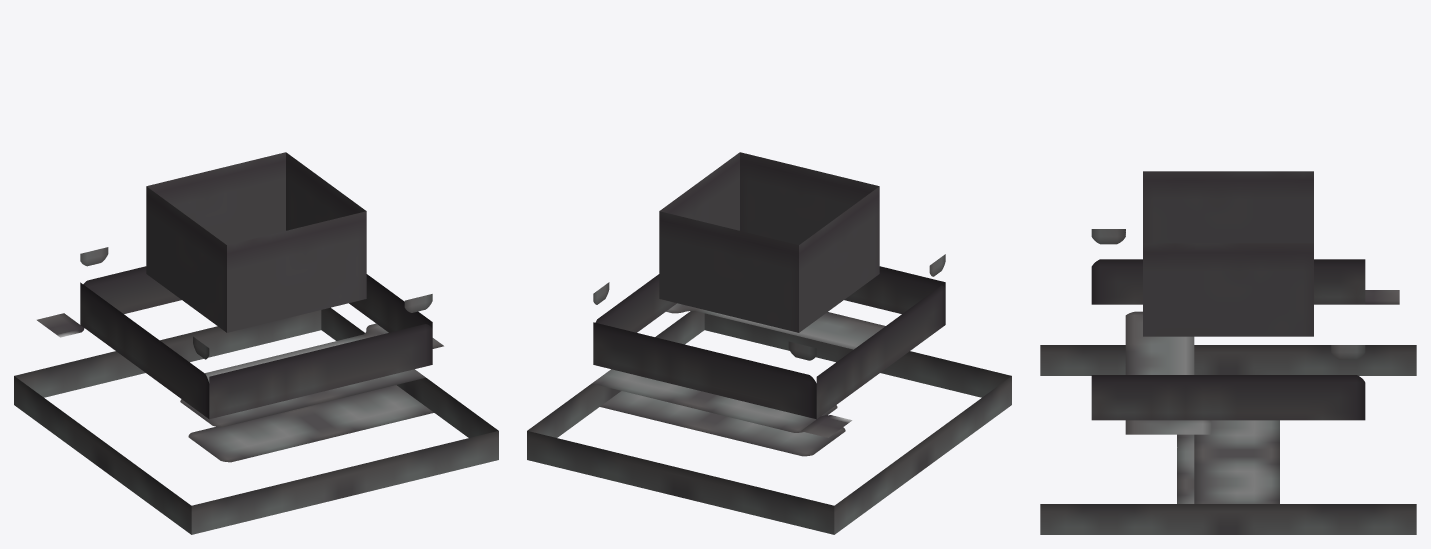
File: rocket_top_basic.obj
The picture shows the model from 3 angles, left to right: view 1: azimuth 30°, elevation 25°; view 2: azimuth 150°, elevation 25°; view 3: azimuth 270°, elevation 25°; orthographic projection. The views are drawn at different scales.
Visible parts, largest first — view 1: RocketTop.001_Cube.000; view 2: RocketTop.001_Cube.000; view 3: RocketTop.001_Cube.000.
Boxes of the visible parts, x1,y1,x2,y2 form: RocketTop.001_Cube.000: (14,152,498,534); RocketTop.001_Cube.000: (527,152,1011,534); RocketTop.001_Cube.000: (1040,171,1416,534).
Size of the model in its own units: 1.38 by 1.75 by 1.38.
